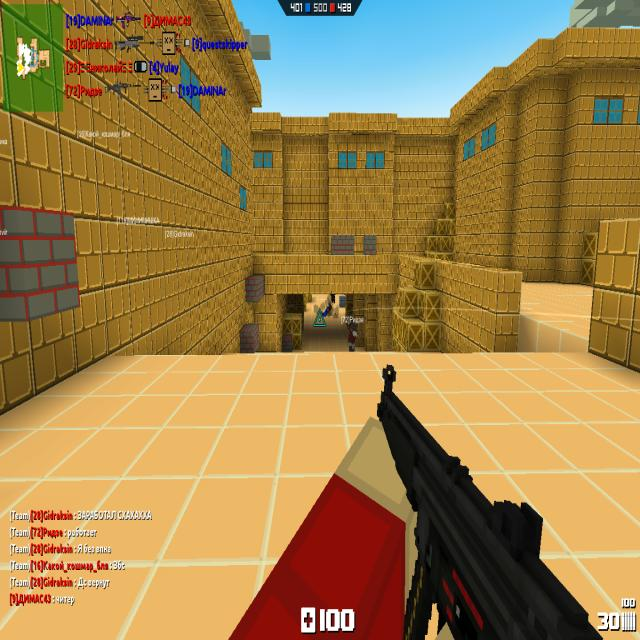enemy: (330, 294, 336, 304)
